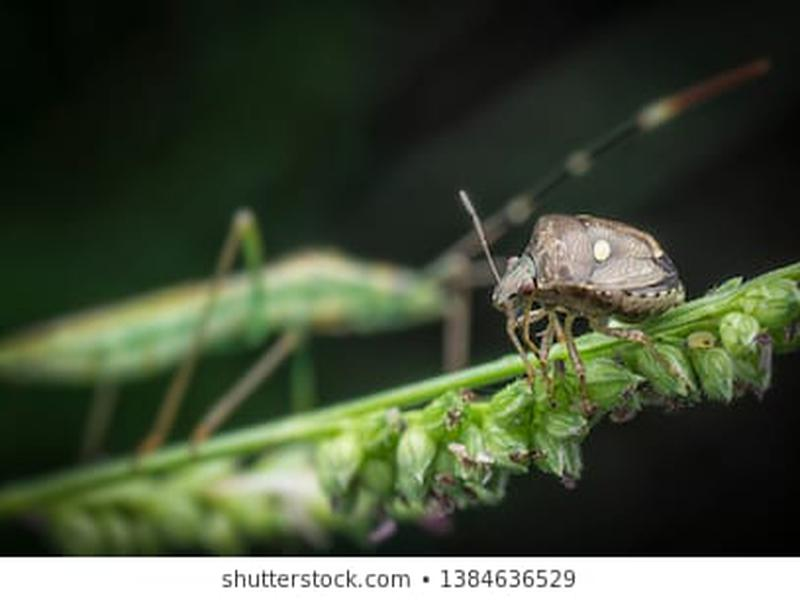Rice_earhead_bug: (417, 190, 748, 381)
